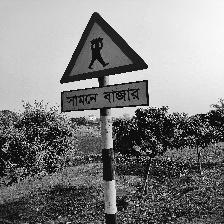Market-in-front: (59, 11, 150, 112)
